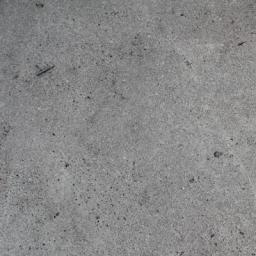FOD: (33, 63, 60, 79)
